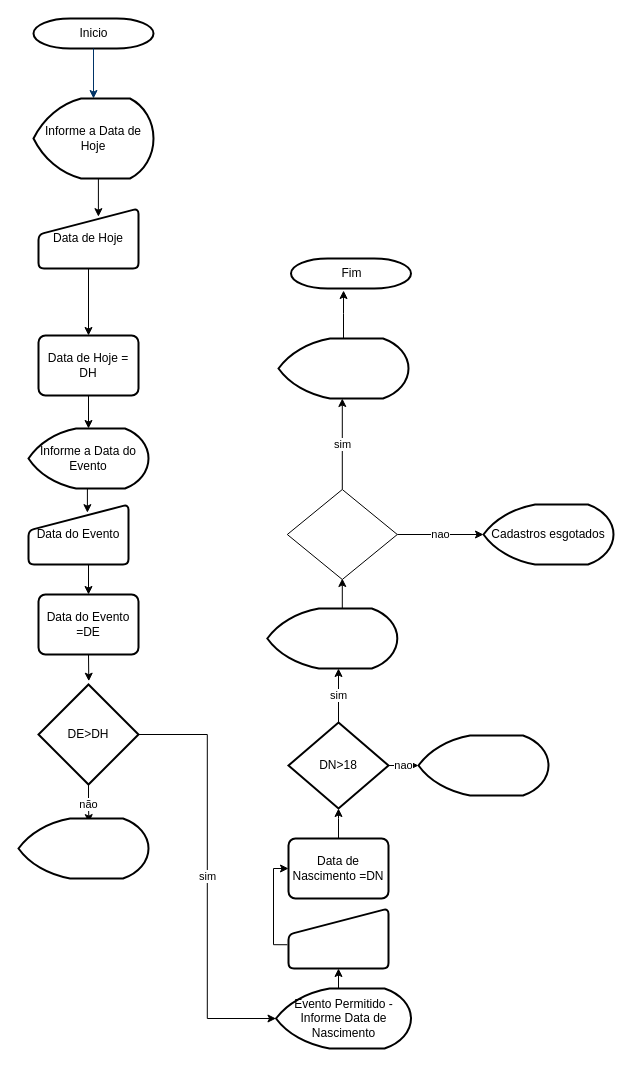
Some shapes in this 631 by 1066 pixel diagram are drawn without their labels. The shapes that lost their labels are listed below. From the top down, each one's box as (x1, y1, x2, y2) in pixels, then its label:
(277, 337, 409, 399): Fazer Cadastro
(286, 488, 397, 580): cadastro >=100
(266, 607, 398, 669): Listar Participante e Palestras por Evento
(417, 734, 549, 796): Idade não permitida para cadastrar
(17, 817, 149, 879): Evento não Permitido
(287, 907, 389, 969): Data de Nascimento
